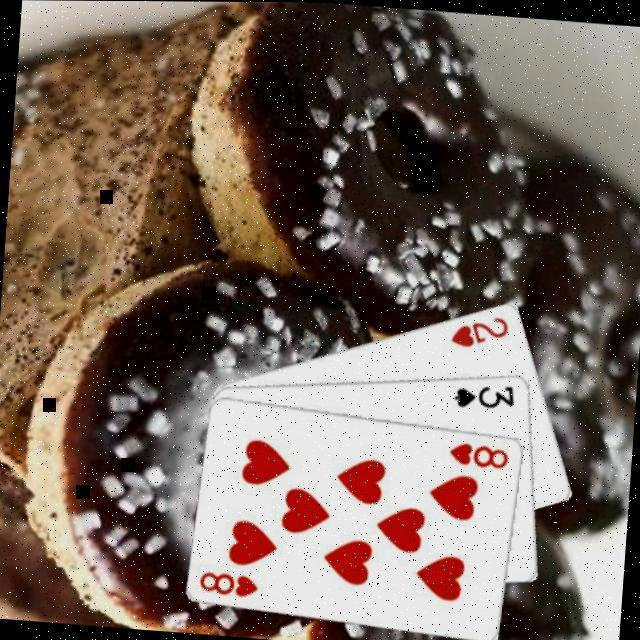2H: (449, 312, 513, 354)
3S: (452, 379, 520, 415)
8H: (446, 439, 514, 474), (197, 568, 263, 602)
